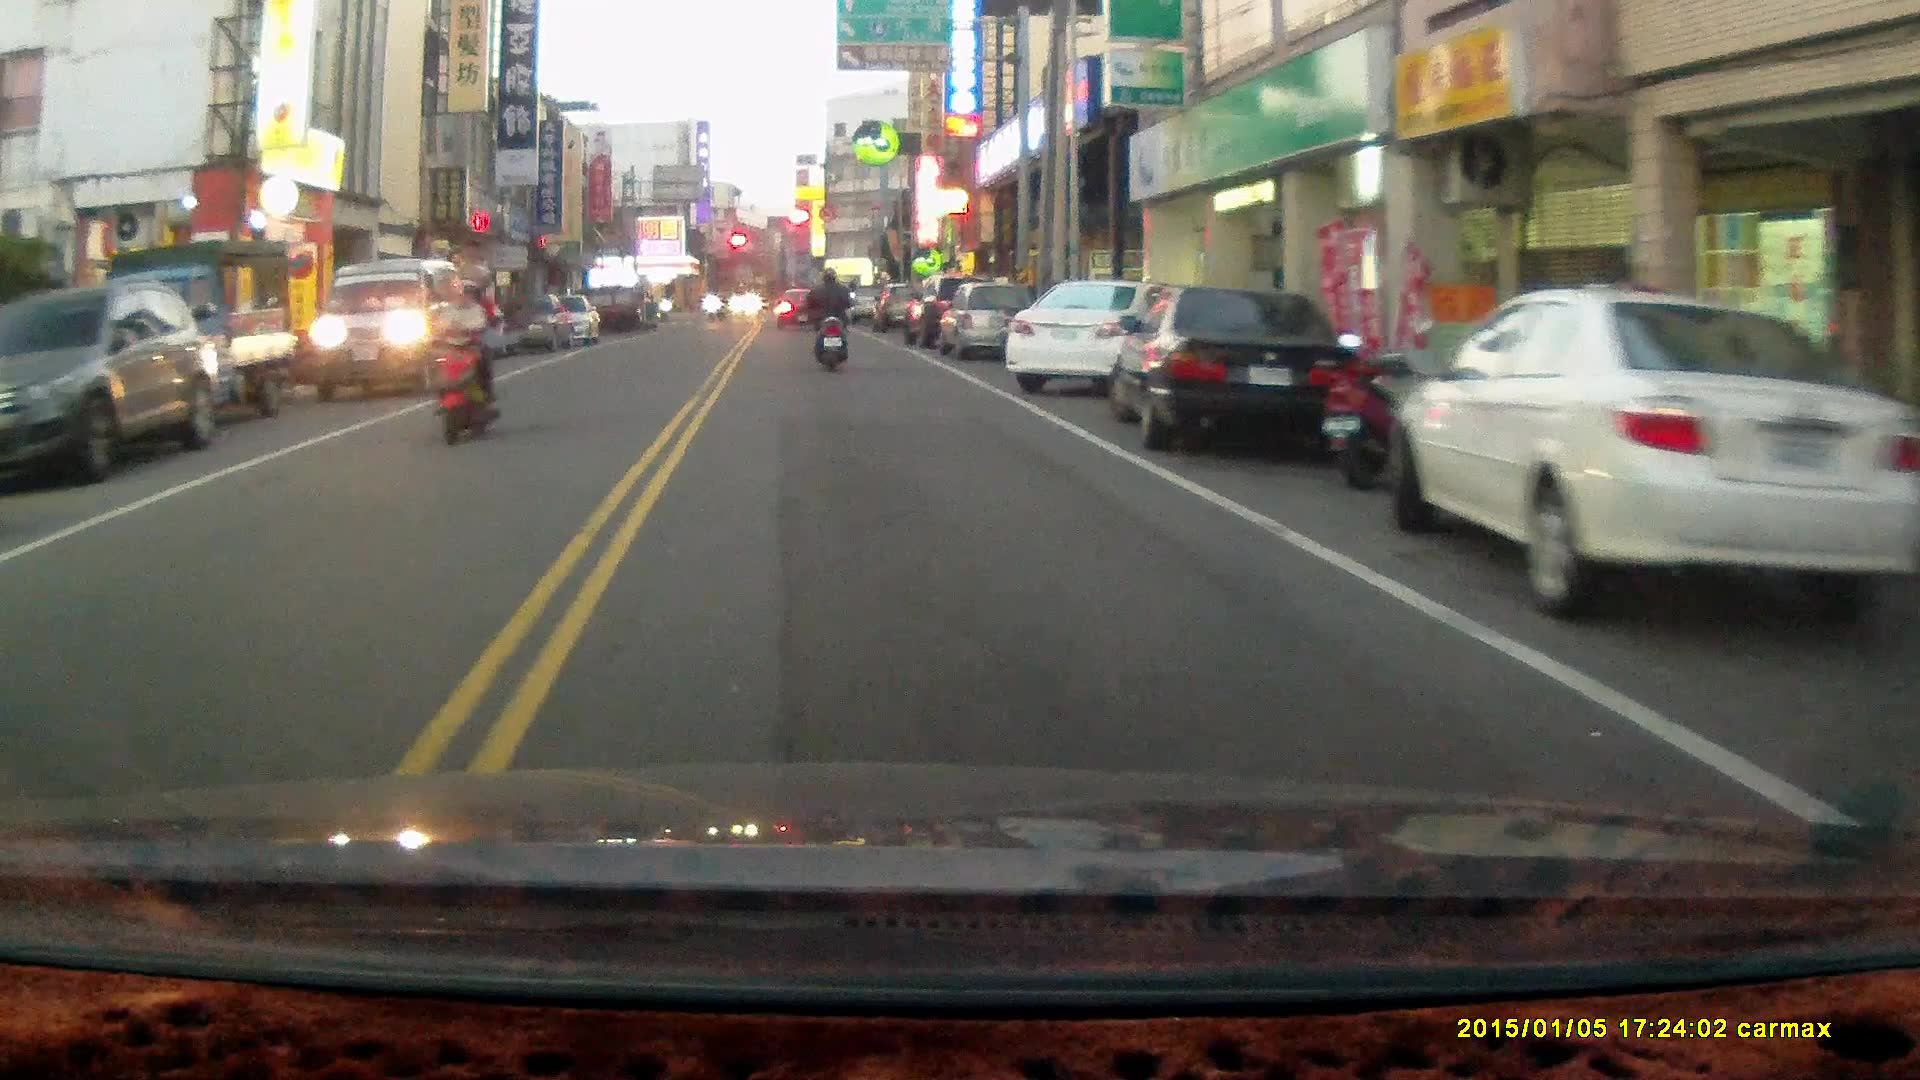rider: (427, 261, 499, 448), (805, 267, 851, 378)
vehicle: (1398, 288, 1914, 623), (2, 277, 217, 494), (1108, 287, 1357, 460), (75, 247, 298, 431), (1002, 280, 1189, 400), (313, 257, 461, 396), (935, 278, 1044, 363)
